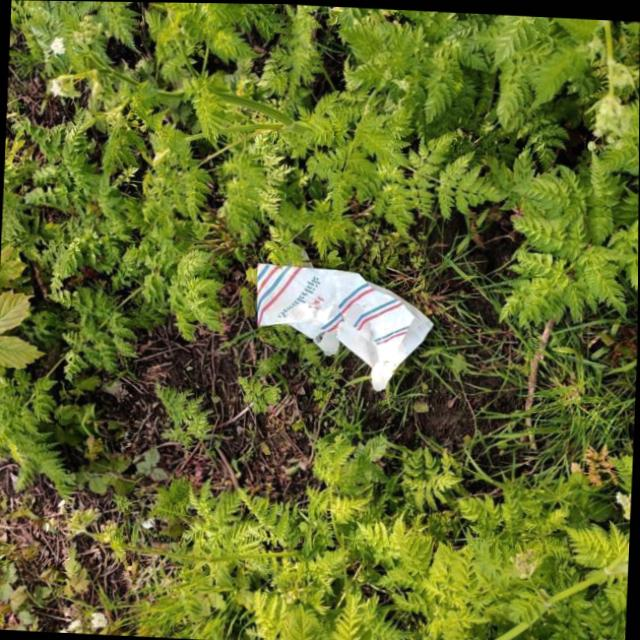Paper: (246, 258, 437, 393)
